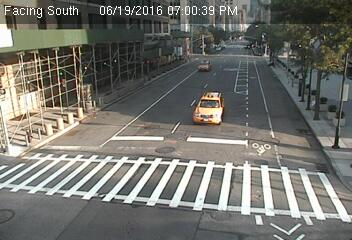neg: (36, 185, 62, 219), (239, 43, 259, 70), (95, 77, 115, 103), (146, 186, 166, 212), (62, 103, 81, 129), (271, 186, 290, 210), (204, 202, 222, 225), (251, 137, 268, 160), (200, 88, 217, 110), (304, 129, 321, 151), (156, 102, 172, 123), (214, 155, 229, 176), (134, 161, 149, 182), (70, 144, 85, 163), (320, 96, 334, 115), (268, 146, 282, 165), (193, 58, 206, 76), (277, 78, 290, 95), (135, 49, 147, 66)
